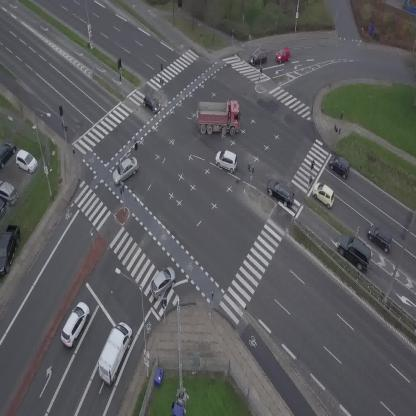car: (331, 230, 378, 274), (56, 299, 95, 349), (262, 174, 300, 211), (144, 263, 181, 301), (363, 220, 399, 254), (107, 154, 143, 186), (308, 179, 340, 210), (326, 152, 354, 179), (212, 147, 241, 173), (139, 92, 163, 115), (247, 50, 269, 66), (273, 46, 292, 64)
lorry: (91, 319, 136, 386), (197, 100, 240, 136)
